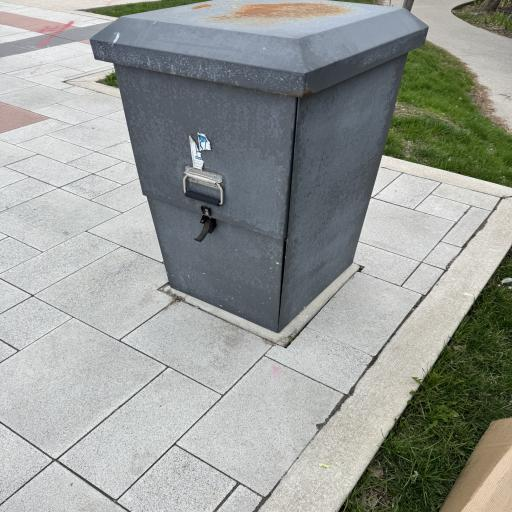Electrical Box: (92, 2, 428, 318)
